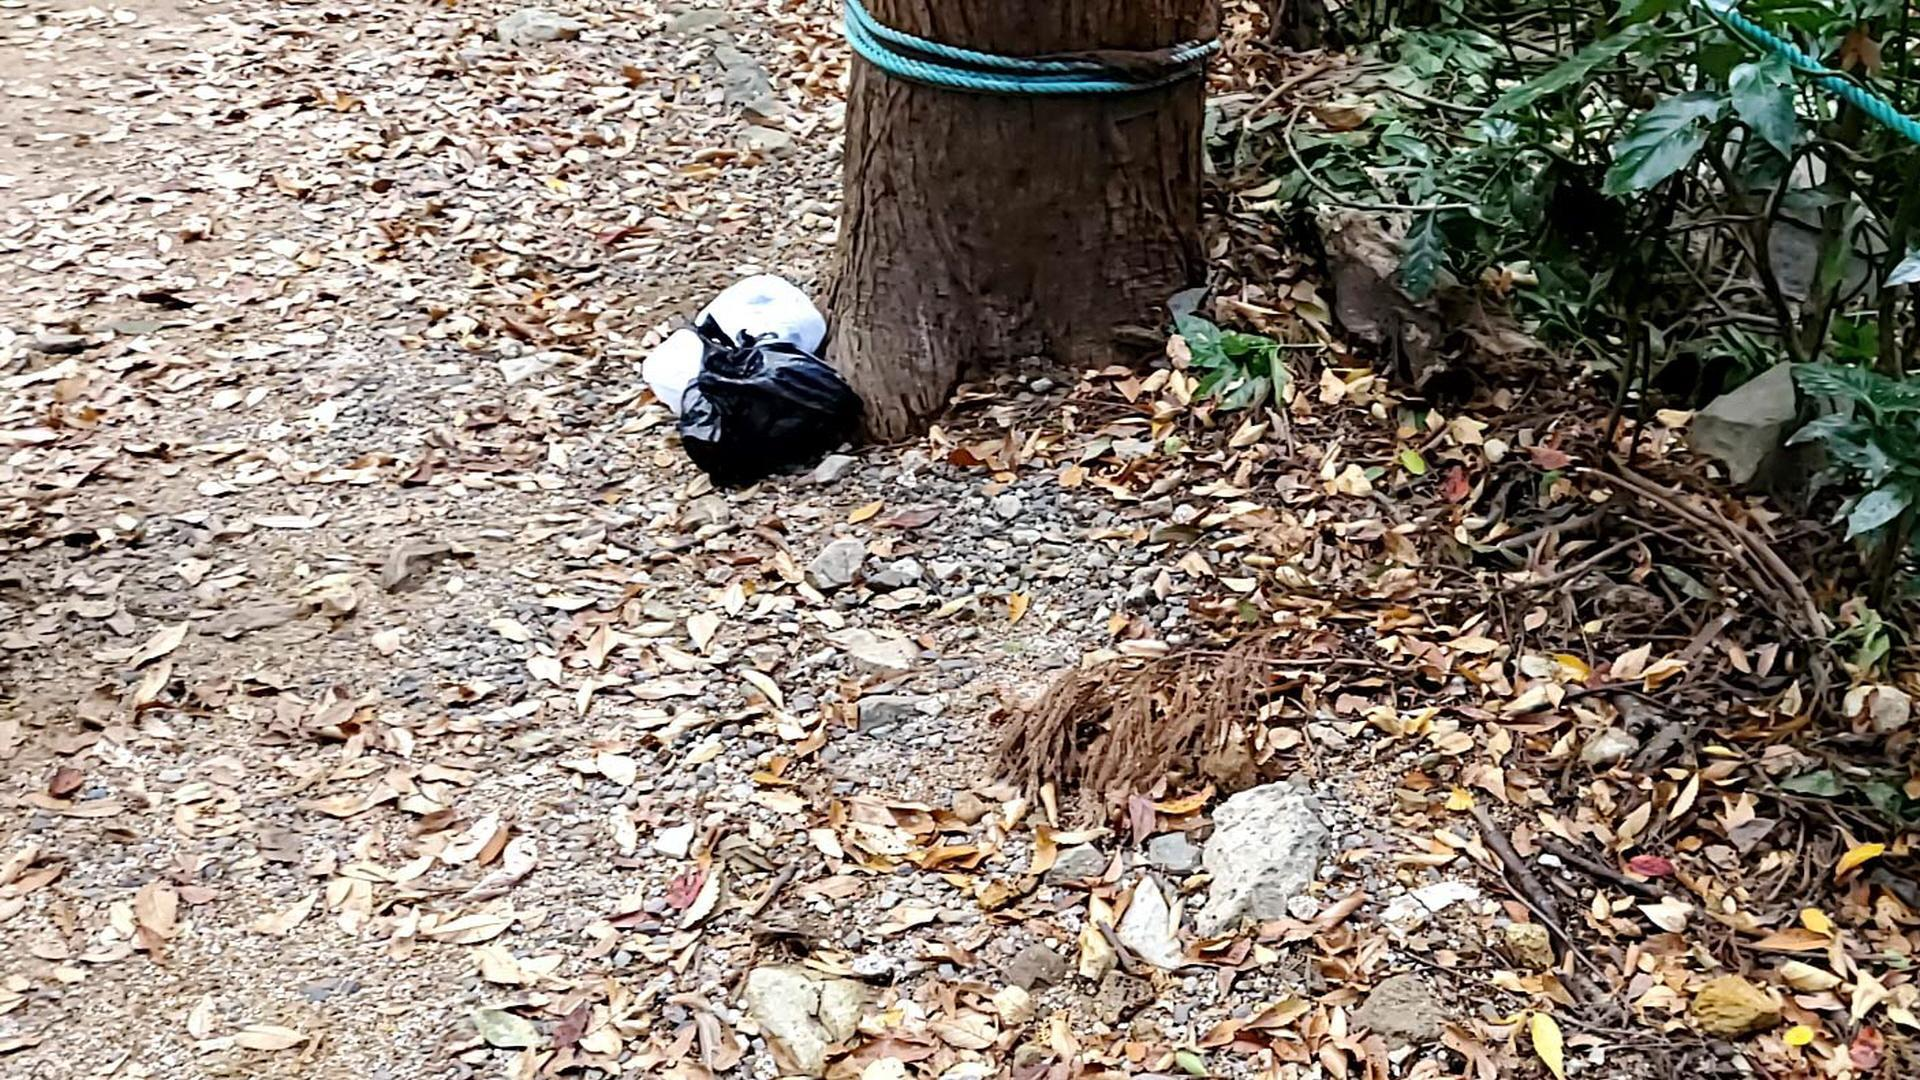black_bag: (676, 309, 880, 491)
white_bag: (626, 258, 833, 409)
